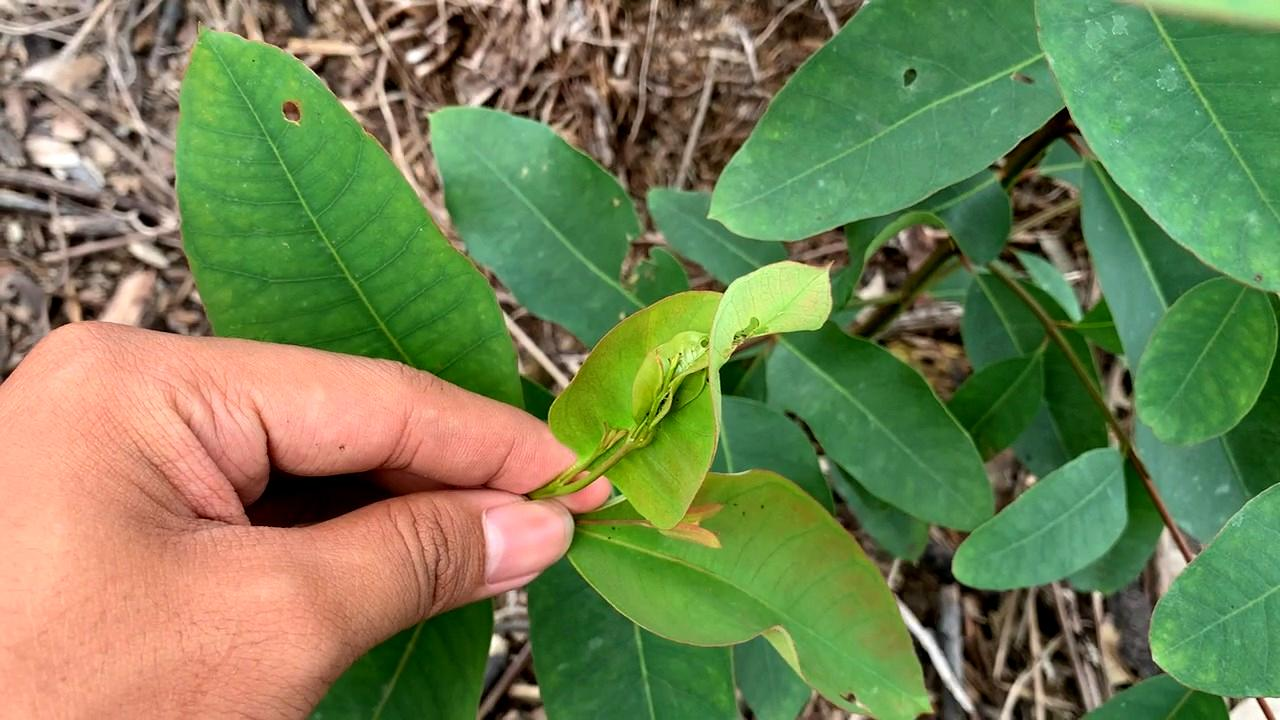Leaf Roller - Leaf: (542, 243, 852, 545)
